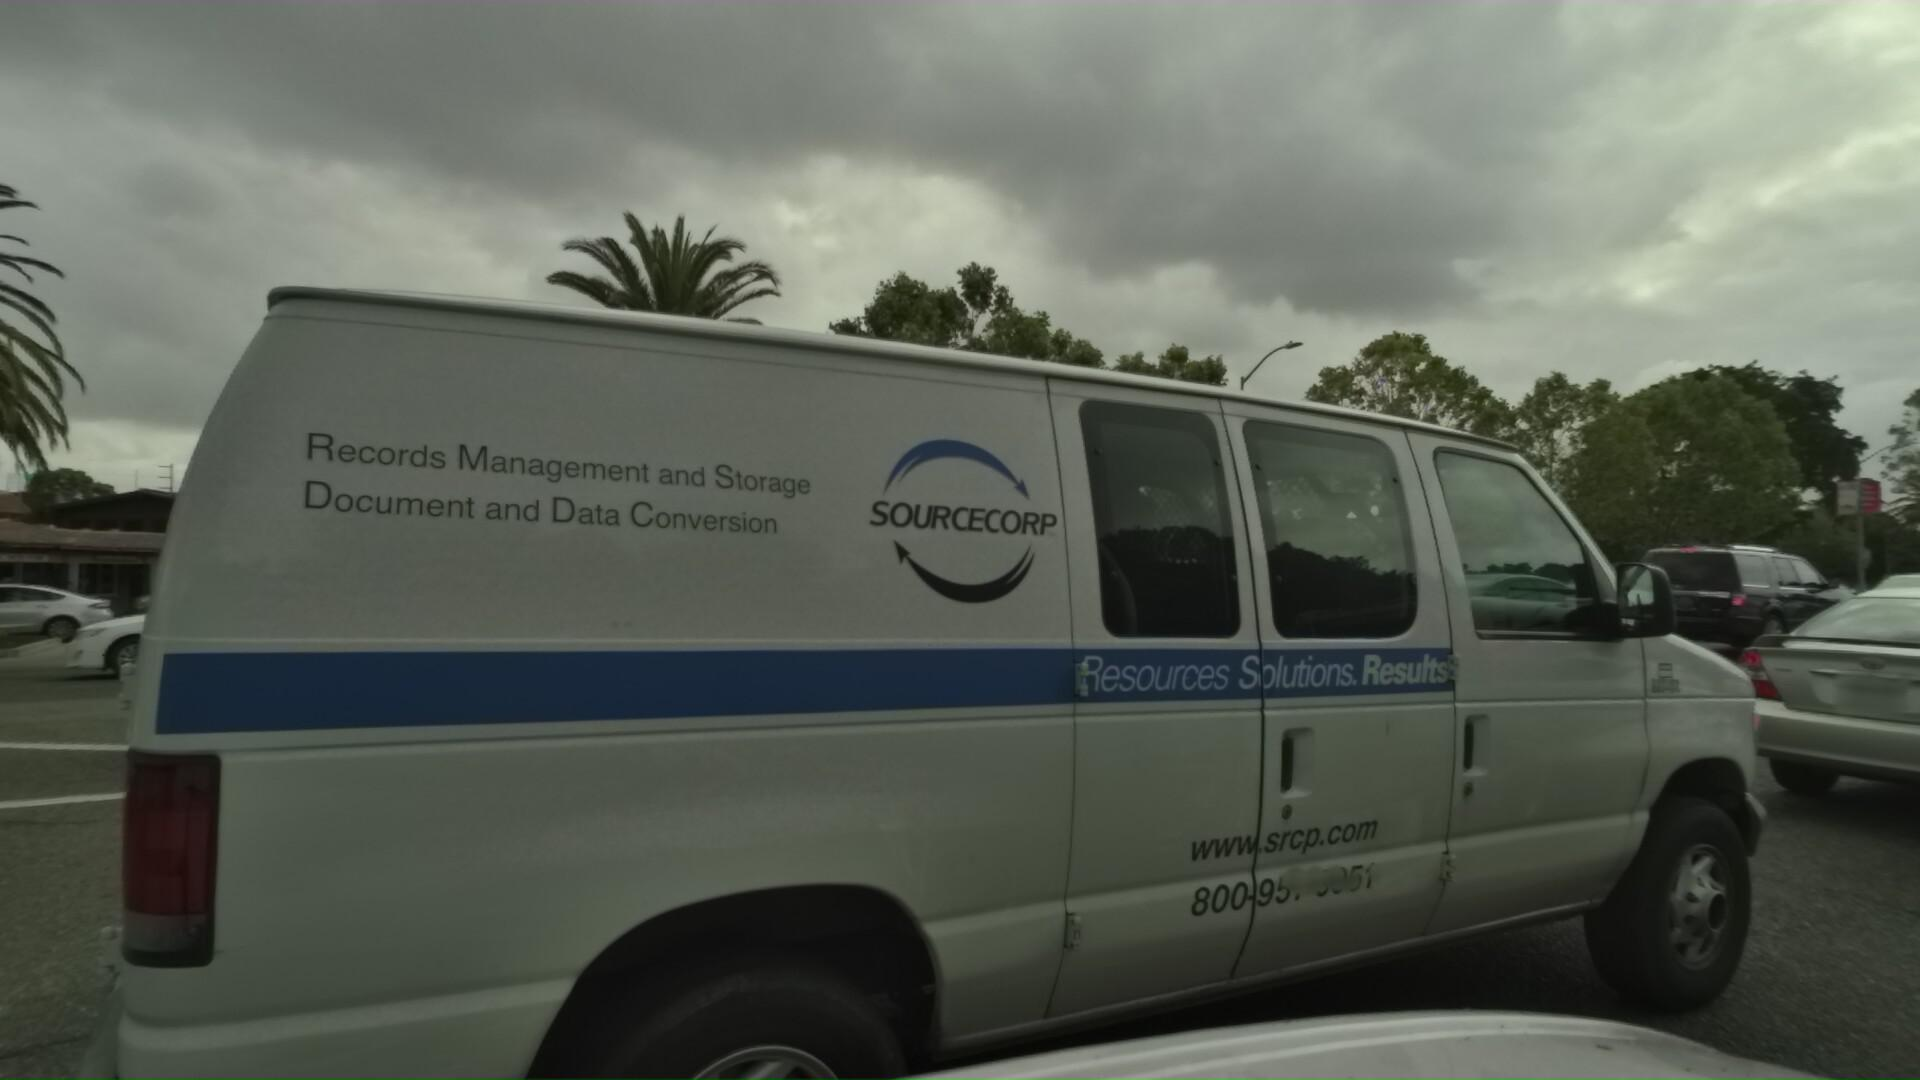car: (0, 55, 1840, 1080), (109, 541, 794, 793), (998, 566, 1543, 800), (1702, 562, 1920, 884), (22, 576, 389, 686), (1361, 553, 1664, 670), (1611, 538, 1884, 665), (142, 566, 314, 651), (1485, 572, 1658, 644), (0, 578, 117, 647), (1837, 556, 1920, 640)
